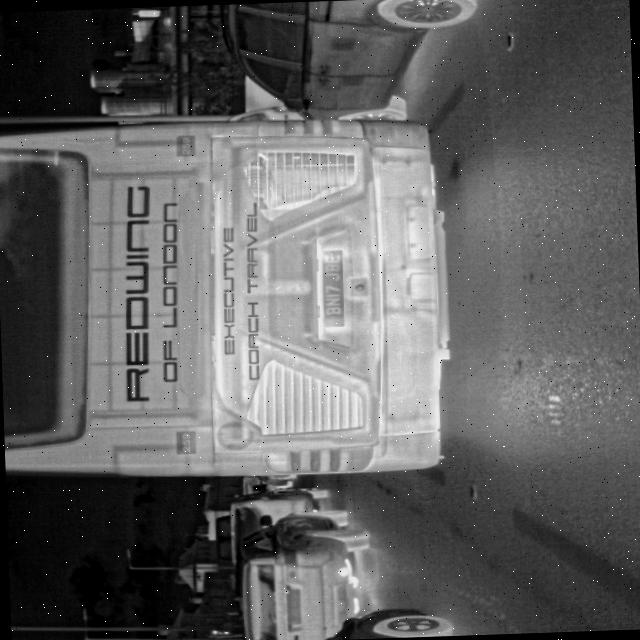Vehicle: (0, 97, 459, 489), (217, 0, 482, 121), (232, 506, 375, 640)
